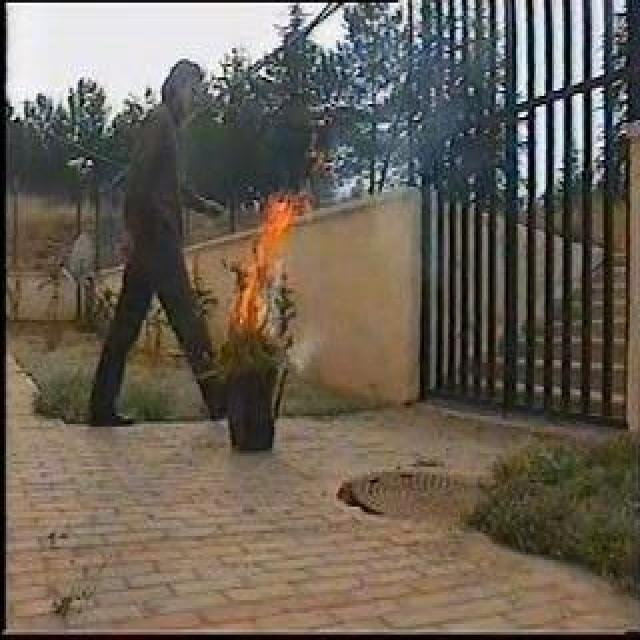fire: (233, 191, 295, 334)
